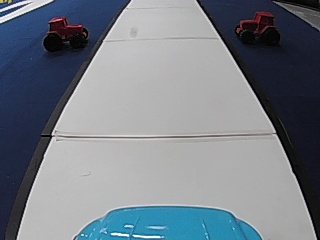tractor: (41, 14, 90, 52), (233, 9, 280, 46)
